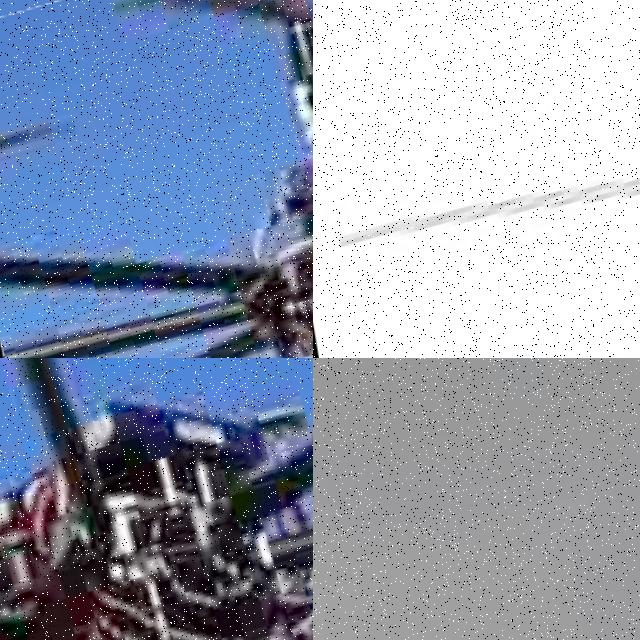0: (0, 0, 313, 358), (0, 358, 313, 640)
drone: (313, 50, 640, 358)
